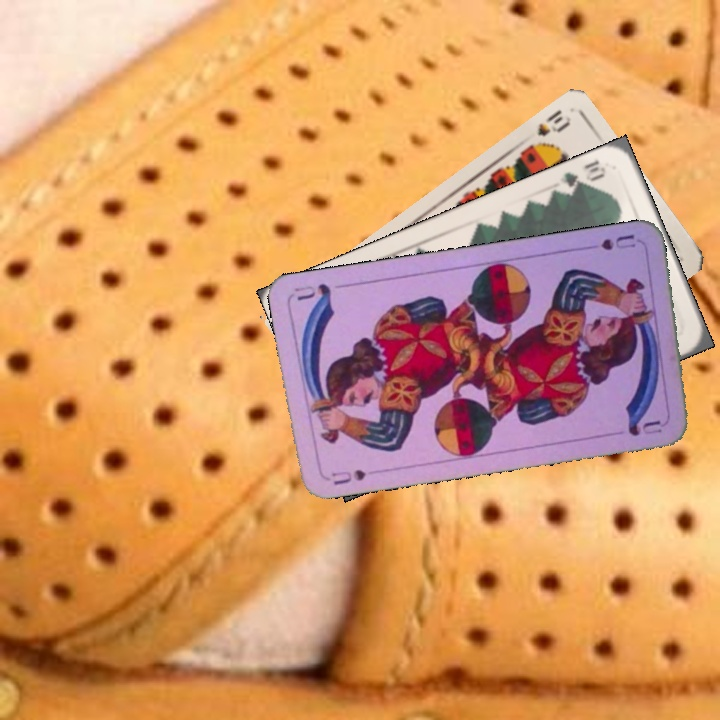G10: (556, 156, 609, 197)
S10: (523, 105, 574, 153)
SU: (579, 230, 639, 253), (327, 465, 368, 488)
